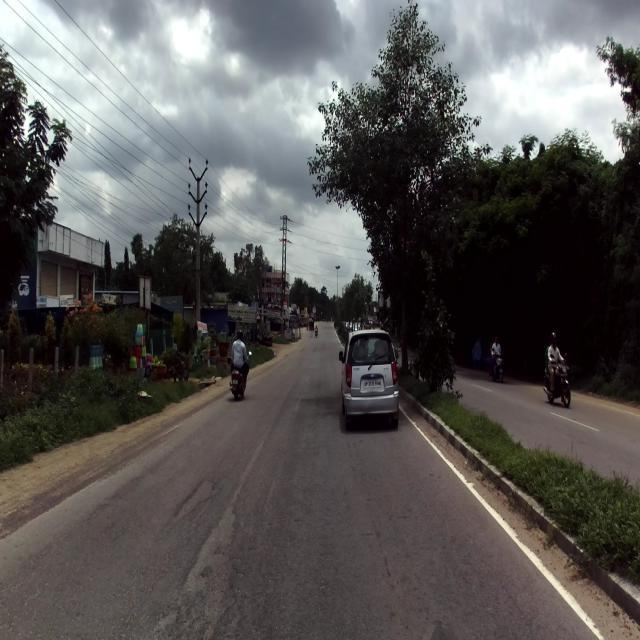Pothole: (148, 473, 280, 640)
